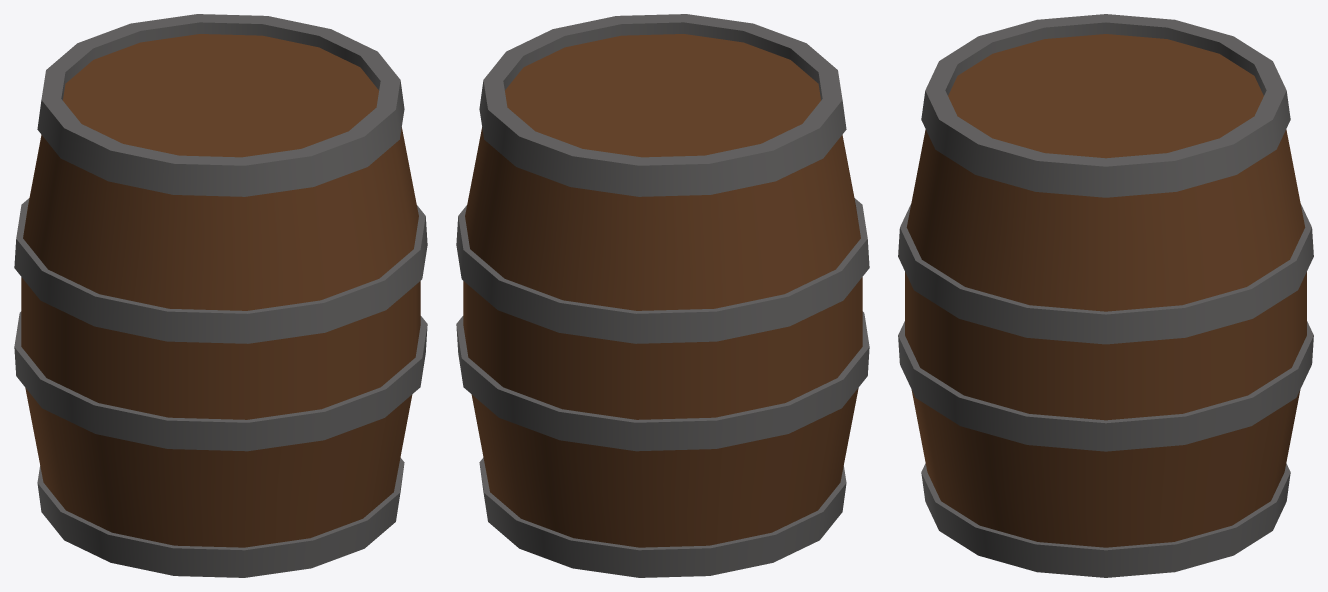
File: WoodBarrel1.fbx
3 views of the same model, side by side, from view 1: azimuth 30°, elevation 25°; view 2: azimuth 150°, elevation 25°; view 3: azimuth 270°, elevation 25° (orthographic).
Parts seen in each view (by area): view 1: Cylinder; view 2: Cylinder; view 3: Cylinder.
Boxes of the visible parts, x1,y1,x2,y2 form: Cylinder: (14, 14, 427, 577); Cylinder: (456, 14, 869, 577); Cylinder: (898, 14, 1313, 577).
Bounding box in the file's own units: 393 × 429 × 393.
